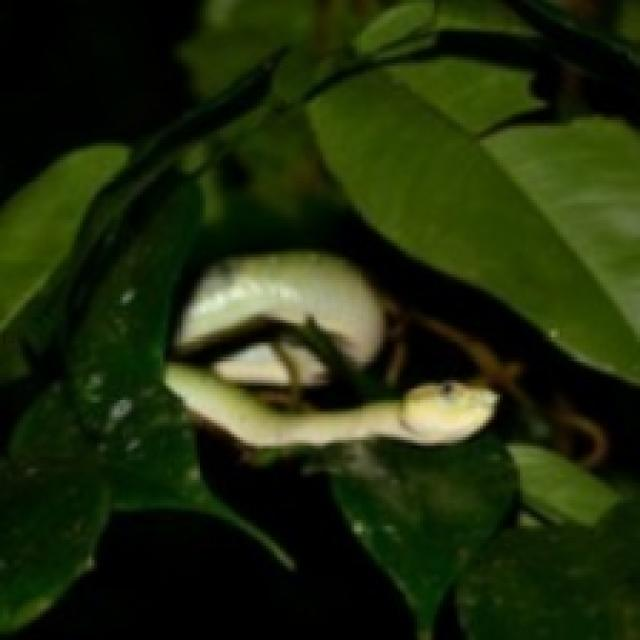north ph temple pitviper: (166, 251, 497, 446)
